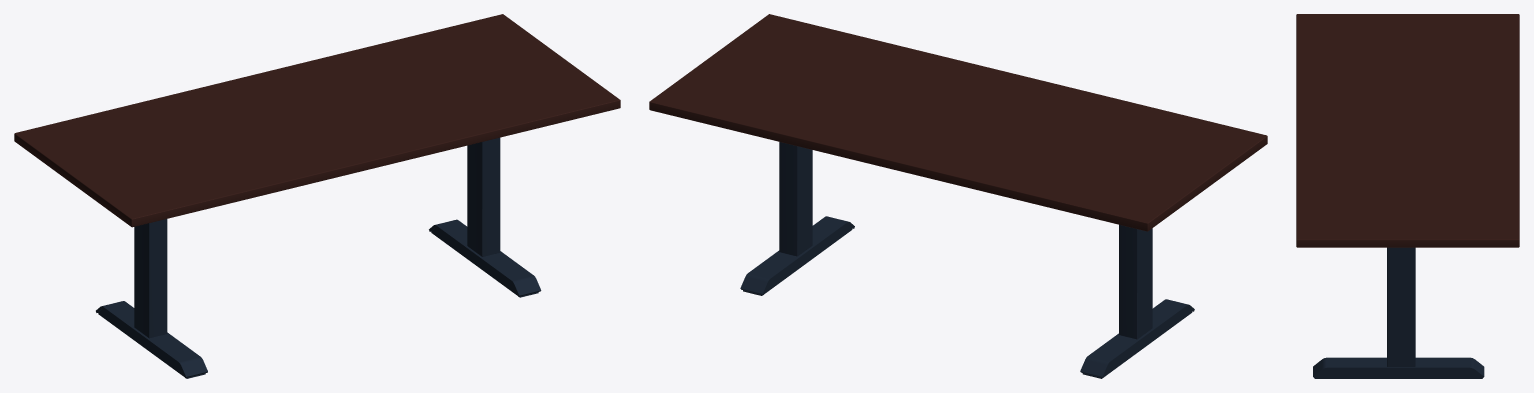
Rendered from DeskWithLegs.fbx.
3 views of the same model, side by side, from view 1: azimuth 30°, elevation 25°; view 2: azimuth 150°, elevation 25°; view 3: azimuth 270°, elevation 25° (orthographic). The views are drawn at different scales.
Parts seen in each view (by area): view 1: Desk; view 2: Desk; view 3: Desk.
Boxes of the visible parts, <box> form: Desk: <box>14,14,620,378</box>; Desk: <box>649,14,1267,378</box>; Desk: <box>1296,14,1519,378</box>.
Size of the model in its own units: 208 by 74.36 by 86.91.
